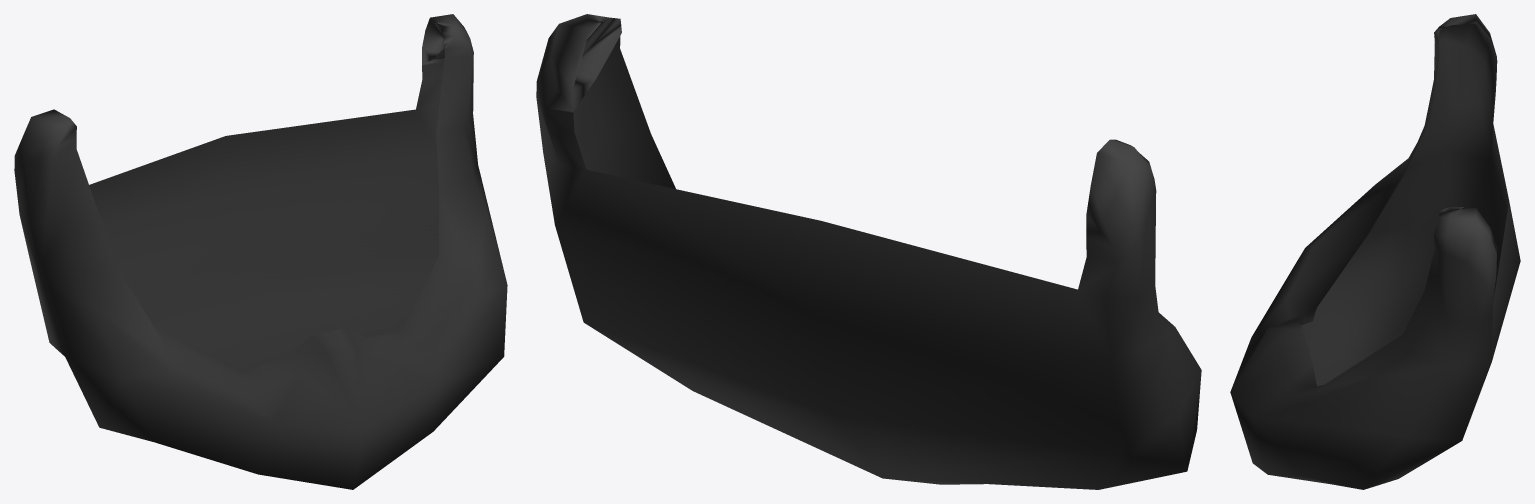
The model's file is Beard_Black_10.fbx.
3 renders of one model, left to right at view 1: azimuth 30°, elevation 25°; view 2: azimuth 150°, elevation 25°; view 3: azimuth 270°, elevation 25°, orthographic. The views are drawn at different scales.
Visible parts, largest first — view 1: Beard_Black_10; view 2: Beard_Black_10; view 3: Beard_Black_10.
Boxes of the visible parts, x1=… form: Beard_Black_10: x1=14, y1=14, x2=507, y2=489; Beard_Black_10: x1=536, y1=14, x2=1201, y2=489; Beard_Black_10: x1=1230, y1=14, x2=1520, y2=489.
Size of the model in its own units: 52.51 by 38.74 by 29.34.
